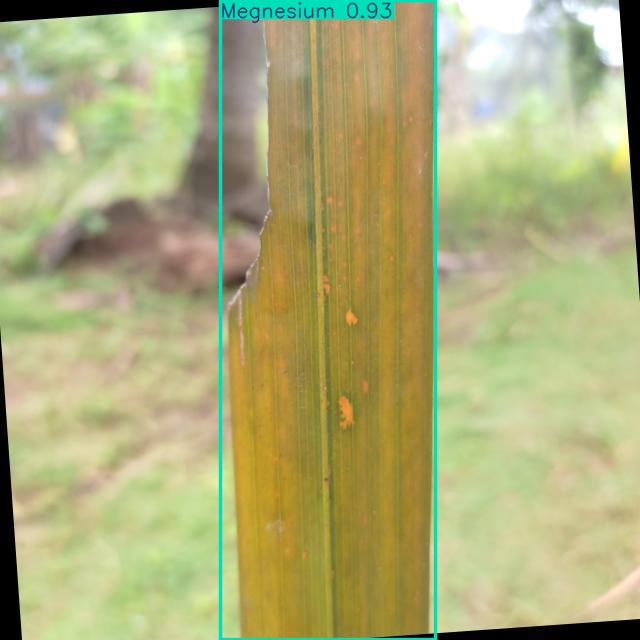Megnesium: (221, 1, 435, 640)
